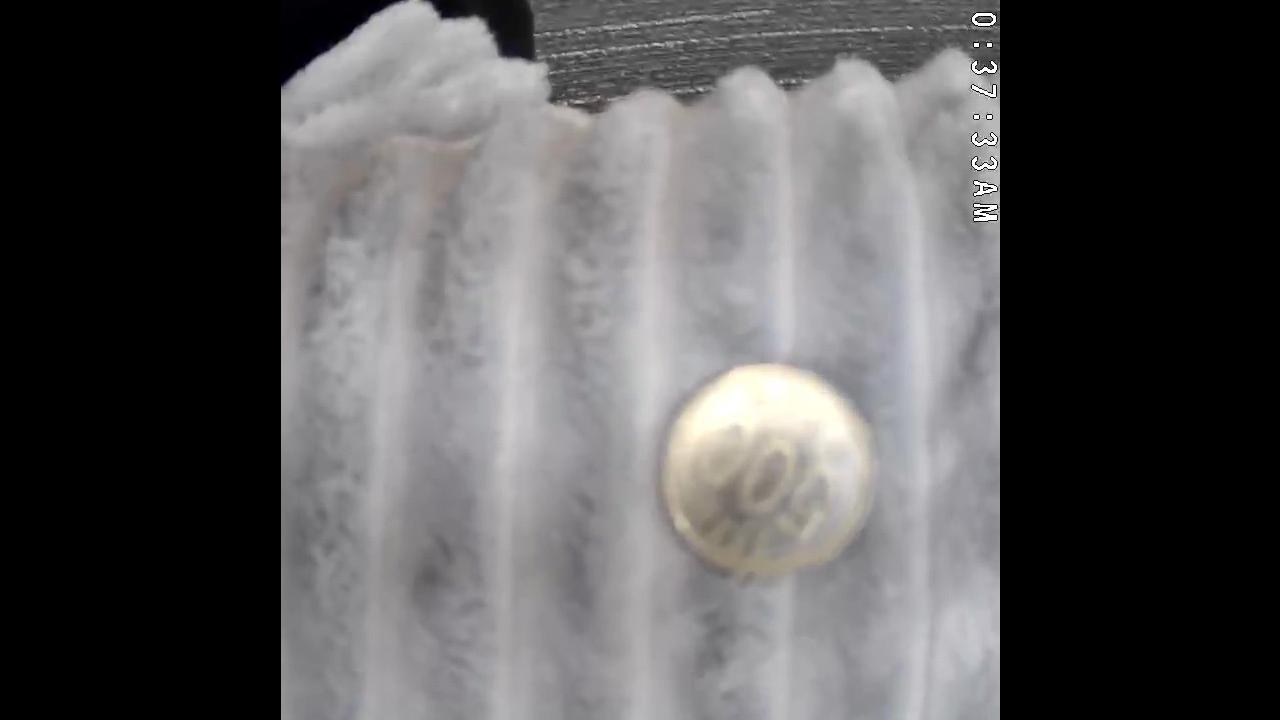coin: (653, 358, 879, 590)
